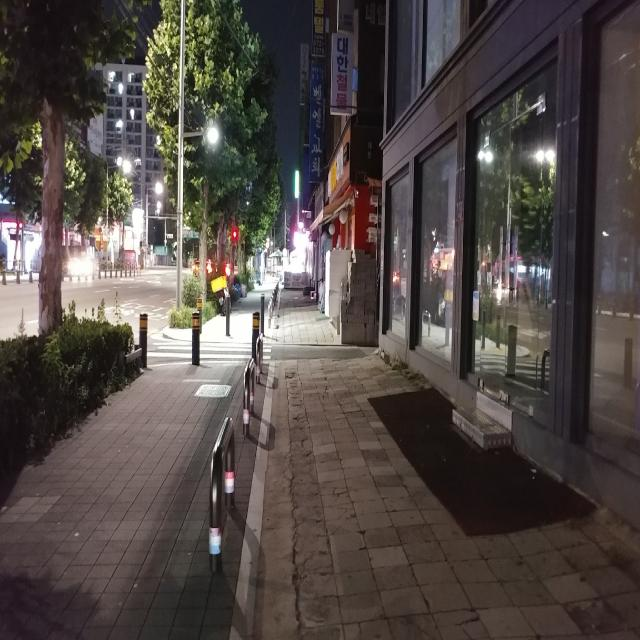횡단보도: (146, 338, 272, 368)
